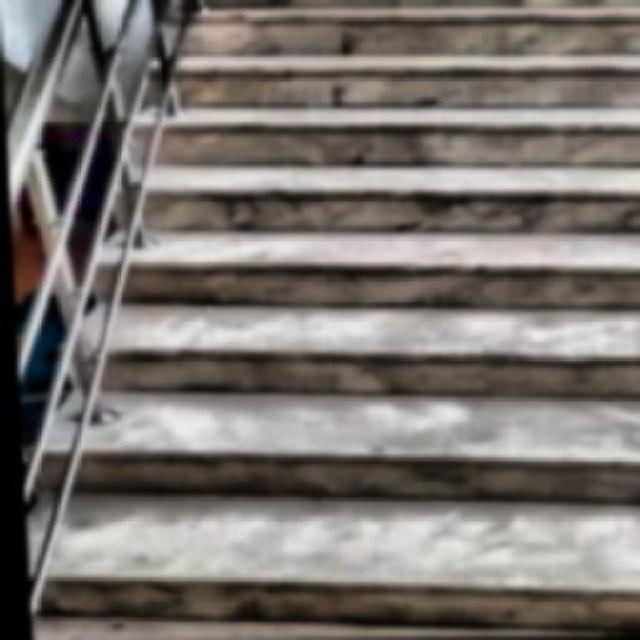stair: (50, 0, 638, 638)
